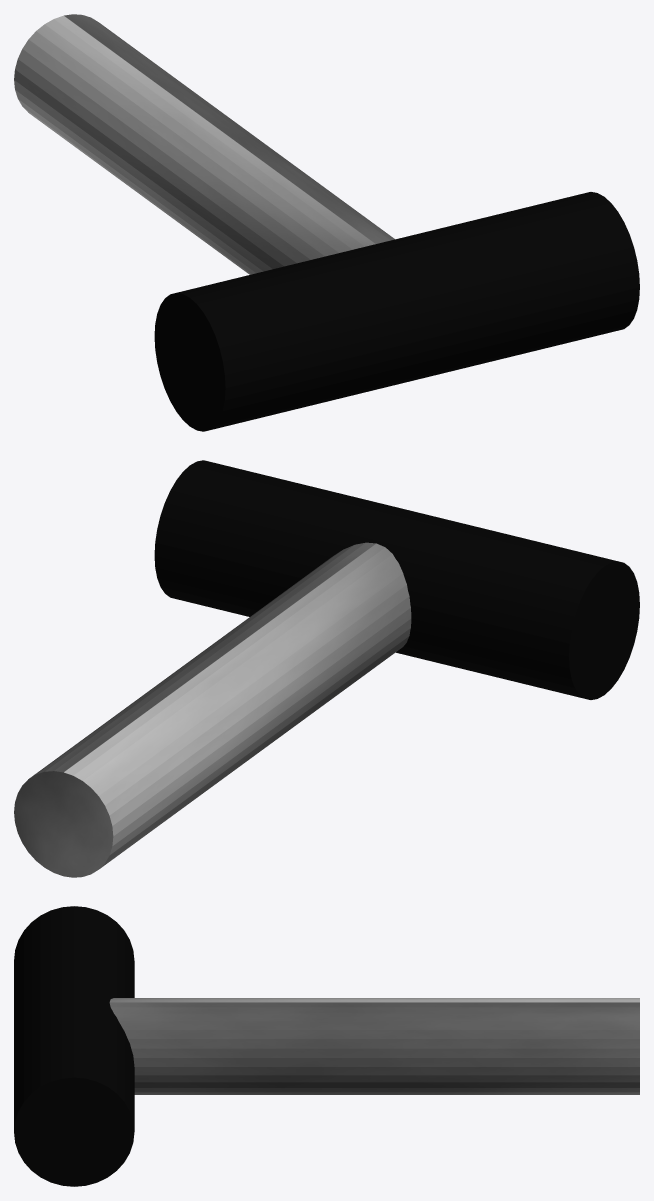
File: lever.fbx
3 renders of one model, top to bottom at view 1: azimuth 30°, elevation 25°; view 2: azimuth 150°, elevation 25°; view 3: azimuth 270°, elevation 25°, orthographic. The views are drawn at different scales.
Visible parts, largest first — view 1: Cylinder; view 2: Cylinder; view 3: Cylinder.
Boxes of the visible parts, <box> form: Cylinder: <box>14,14,639,431</box>; Cylinder: <box>14,460,639,877</box>; Cylinder: <box>14,906,639,1186</box>.
Size of the model in its own units: 673 by 200 by 1039.
